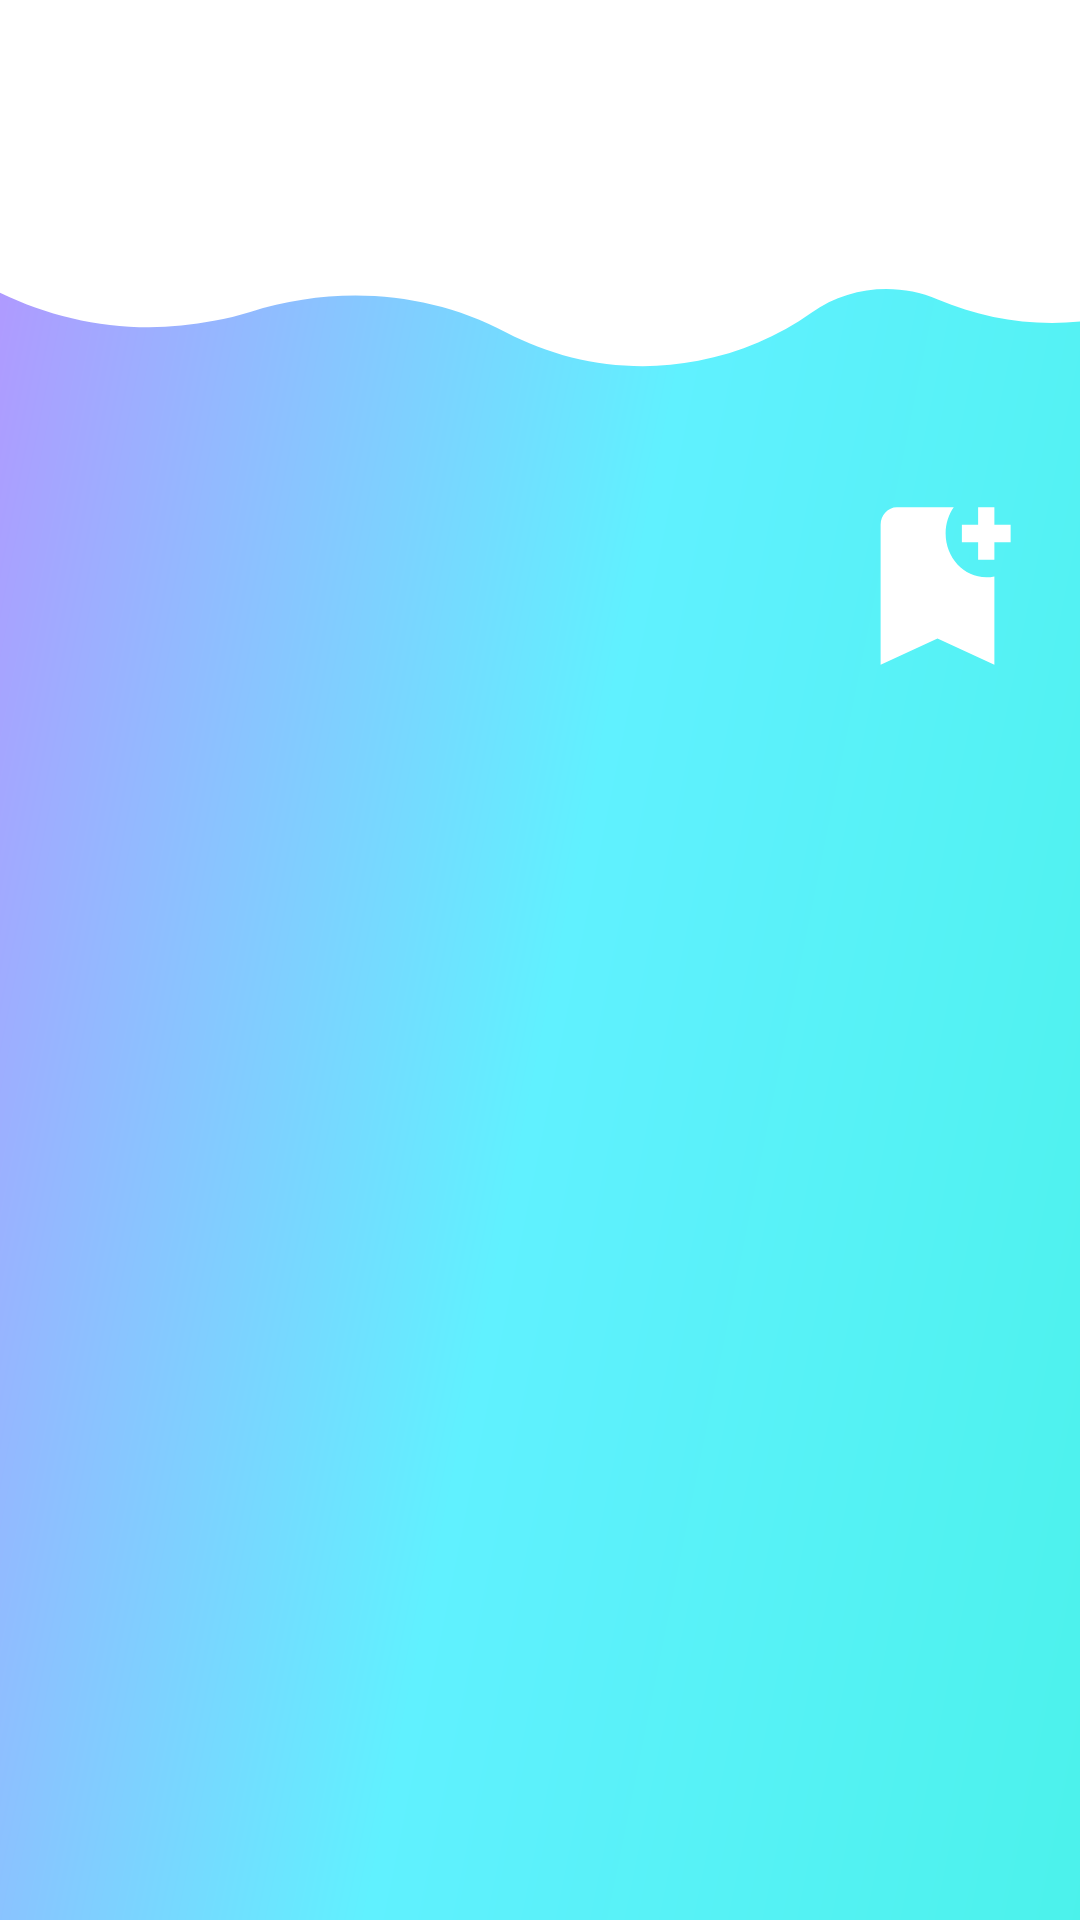

Locate icon controls on the screen. Image size 1080px x 1920px, boxes as [x1,y1,x2,y2].
bookmark add: [880,507,1011,665]
